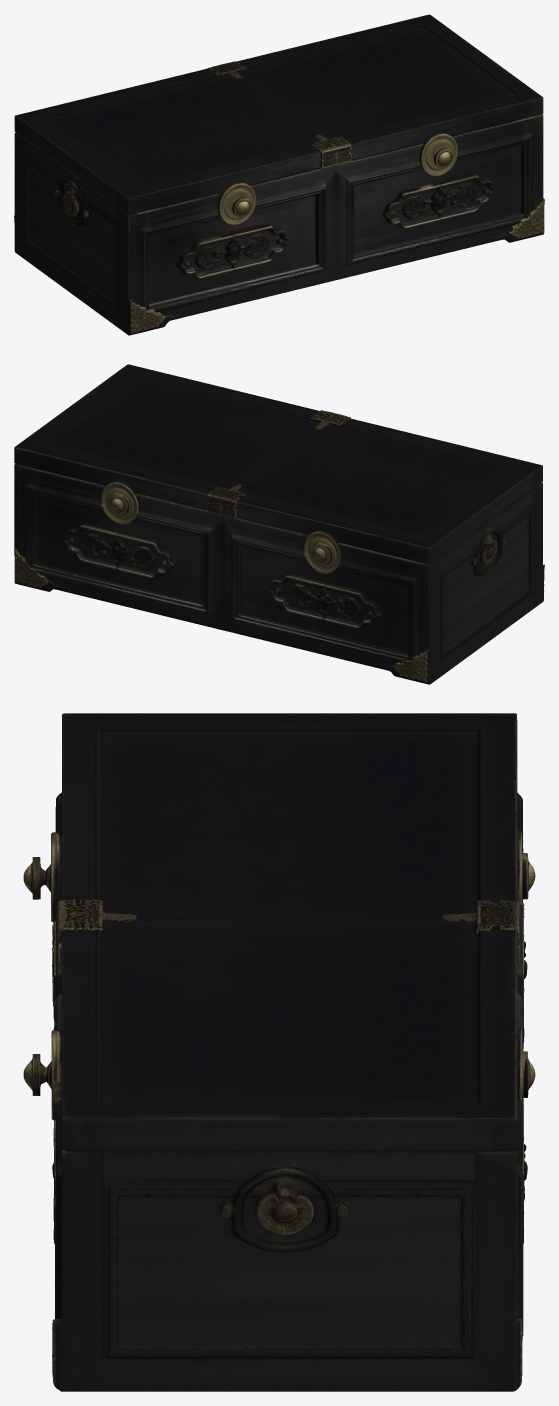
Rendered from Meshy_AI_三希堂箱子_0308182139_texture.fbx.
The picture shows the model from 3 angles, top to bottom: view 1: azimuth 30°, elevation 25°; view 2: azimuth 150°, elevation 25°; view 3: azimuth 270°, elevation 25°; orthographic projection. The views are drawn at different scales.
Visible parts, largest first — view 1: Mesh_0; view 2: Mesh_0; view 3: Mesh_0.
Boxes of the visible parts, box(x1,y1,x2,y2) form: Mesh_0: box(14, 14, 544, 335); Mesh_0: box(14, 364, 544, 684); Mesh_0: box(23, 713, 535, 1391).
Size of the model in its own units: 190 by 58.8 by 98.89.
1 material, 1 textured.
